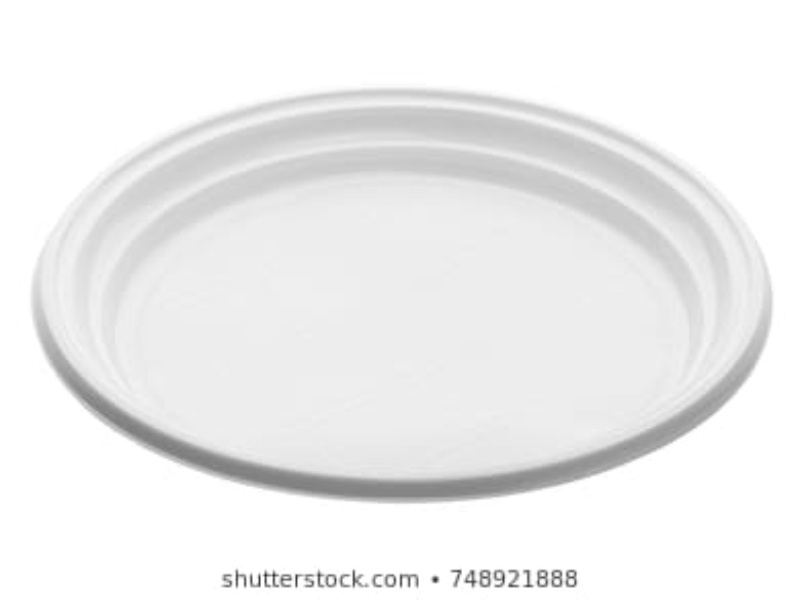plastic-plate: (28, 80, 776, 508)
